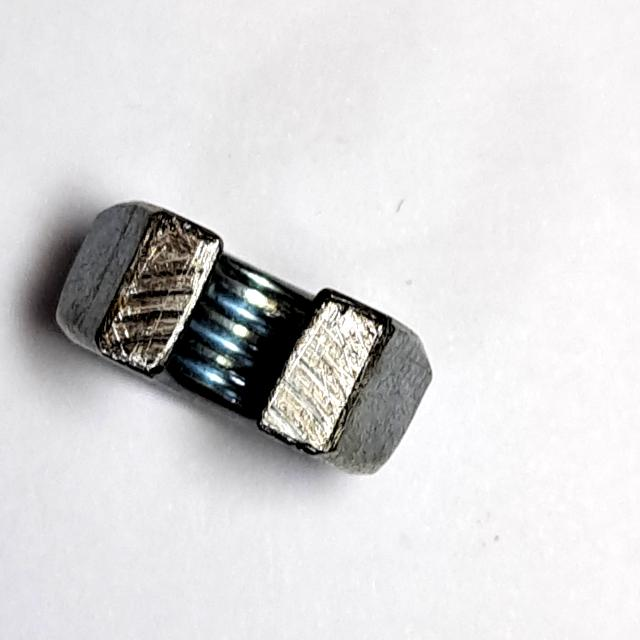Side-Fracture: (46, 182, 446, 485)
